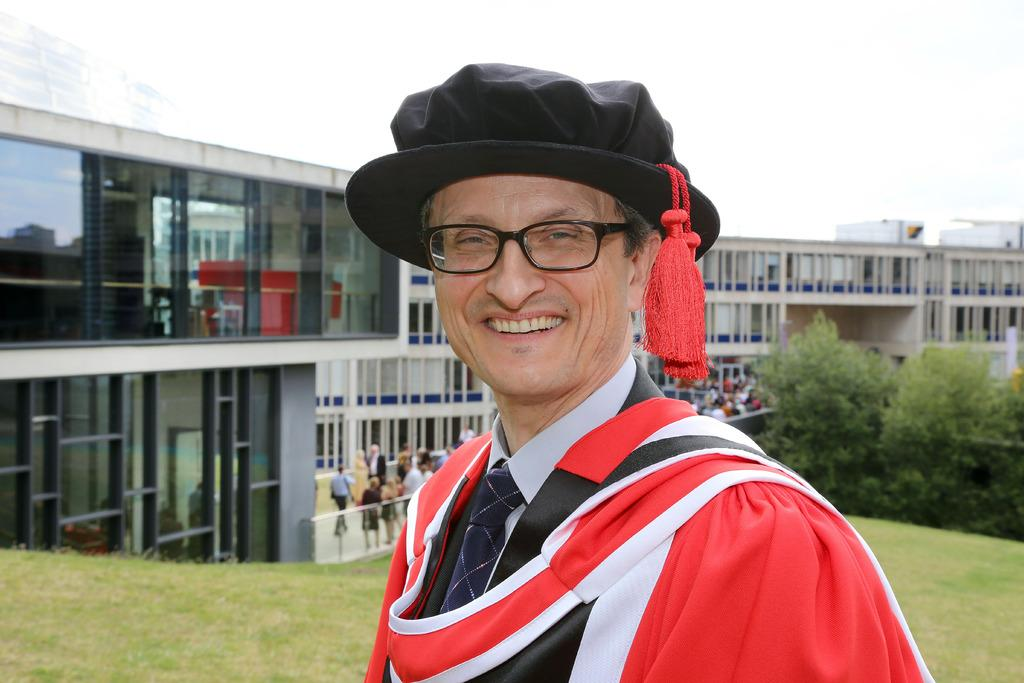Hat: (346, 56, 722, 378)
